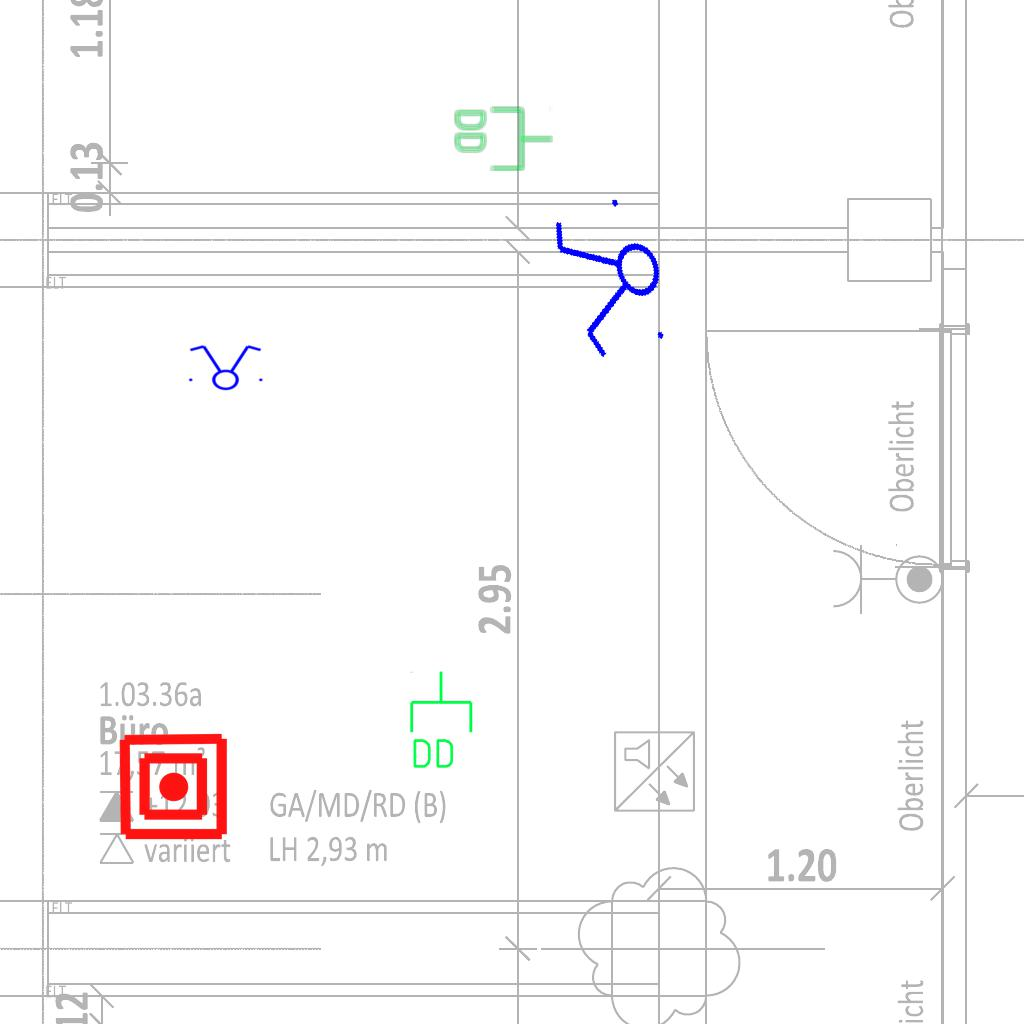Datenanschluss_zweifach: (406, 669, 475, 772), (452, 104, 555, 173)
NAM-Nichtautomatischer_Melder: (117, 730, 230, 843)
Serienschalter: (541, 183, 687, 375), (183, 343, 267, 391)
